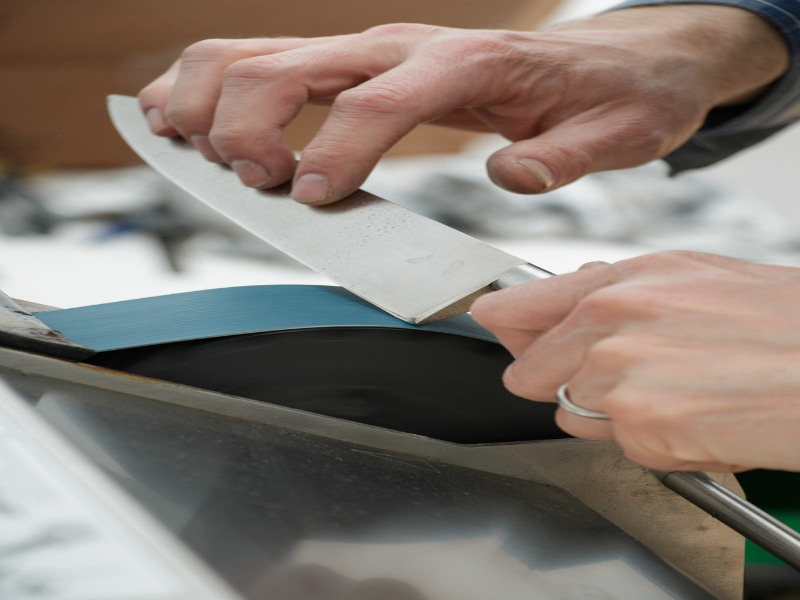knife: (100, 90, 800, 565)
